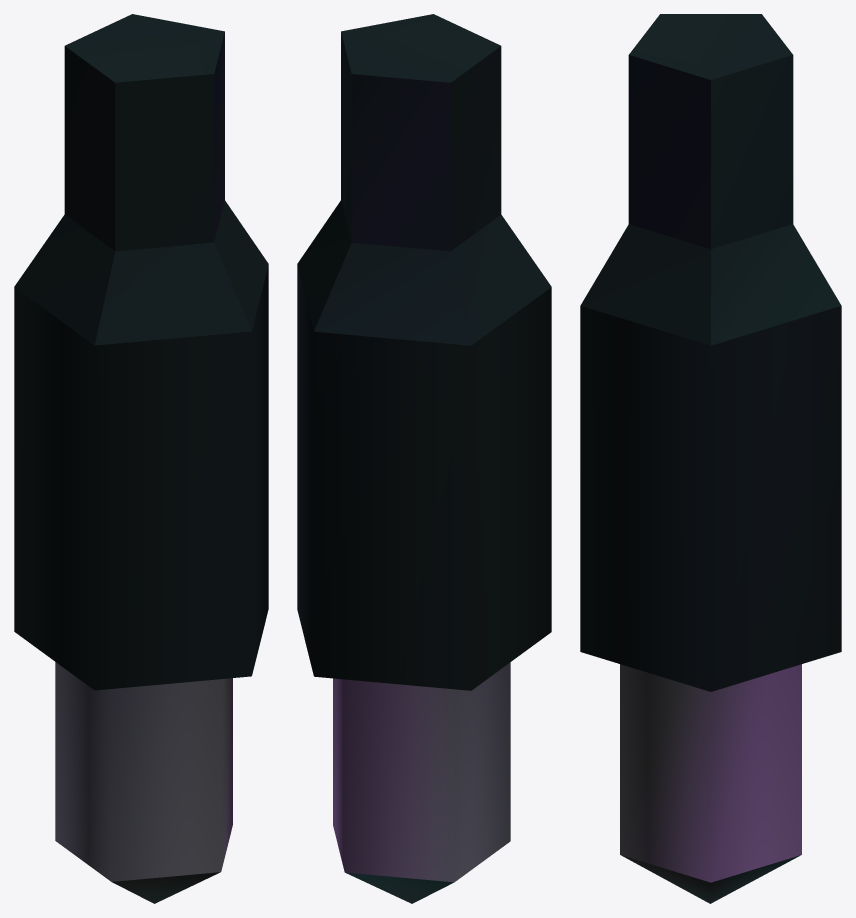
File: bare_bulb.FBX
3 renders of one model, left to right at view 1: azimuth 30°, elevation 25°; view 2: azimuth 150°, elevation 25°; view 3: azimuth 270°, elevation 25°, orthographic.
Parts seen in each view (by area): view 1: bare bulb, bulb_ncl1_3; view 2: bare bulb, bulb_ncl1_3; view 3: bare bulb, bulb_ncl1_3.
Boxes of the visible parts, x1,y1,x2,y2 form: bare bulb: (14, 14, 268, 690); bulb_ncl1_3: (55, 662, 232, 903); bare bulb: (297, 14, 551, 690); bulb_ncl1_3: (333, 662, 510, 903); bare bulb: (580, 14, 841, 691); bulb_ncl1_3: (620, 664, 801, 903).
Bounding box in the file's own units: 0.0921 × 0.3512 × 0.0968.
